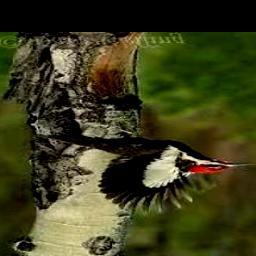Woodpecker: (39, 130, 255, 214)
